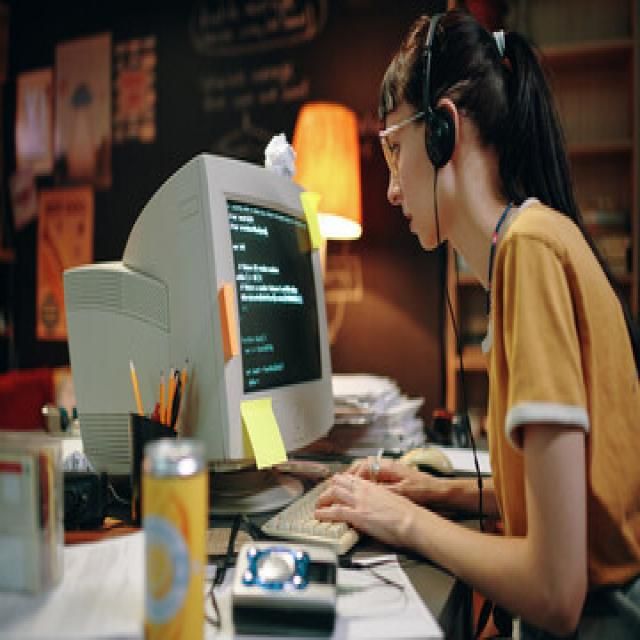Headphone: (420, 9, 461, 170)
